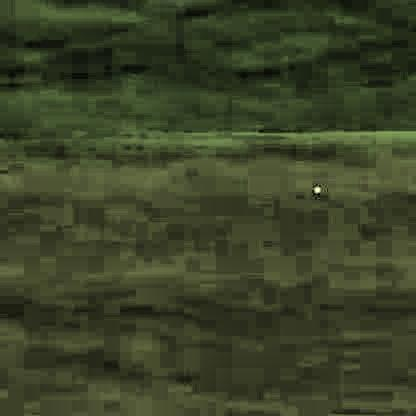golfball: (309, 180, 319, 191)
